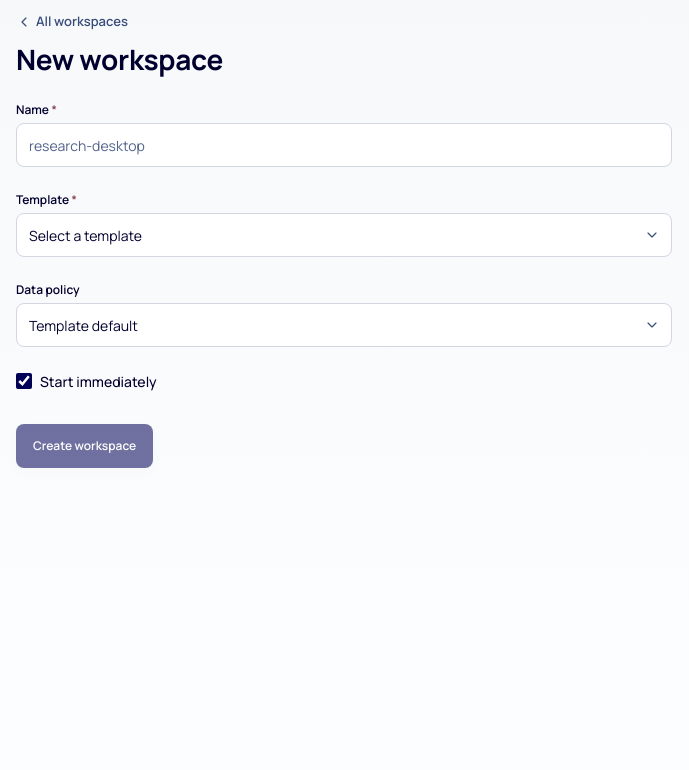
Test: CreateWorkspacePage › create: IMAGE_STALE refusal guidance (not pinned)
The width and height of the screenshot is (689, 770).
Type "my-box" into the field labelled "Name *" at (344, 145), box [16,123,672,167]
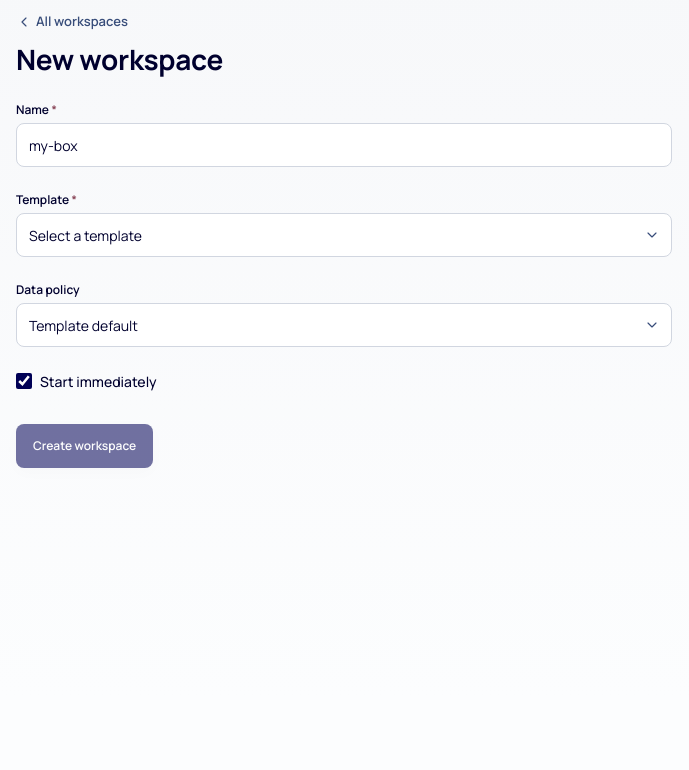
Select "linux-chromium-browser (rev 3, Linux container)" in the dropdown labelled "Template *" at (344, 235), box [16,213,672,257]
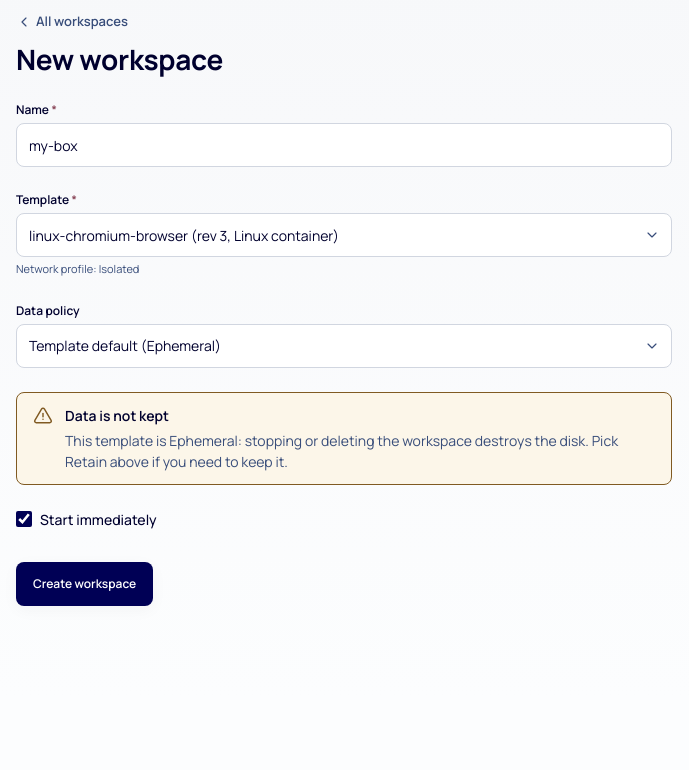
Click the button "Create workspace" at (85, 584), box [16,562,153,606]
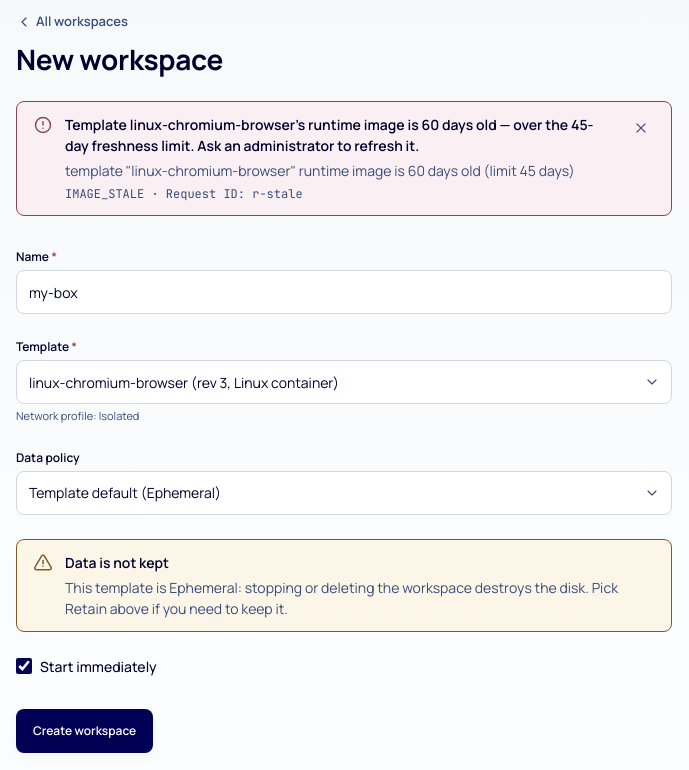
Expected: the 1st message does not show "only after an administrator publishes a fresh image", [16,101,672,216]
Expected: the 1st message shows "Template linux-chromium-browser's runtime image is 60 days old — over the 45-day freshness limit", [65,115,594,155]
